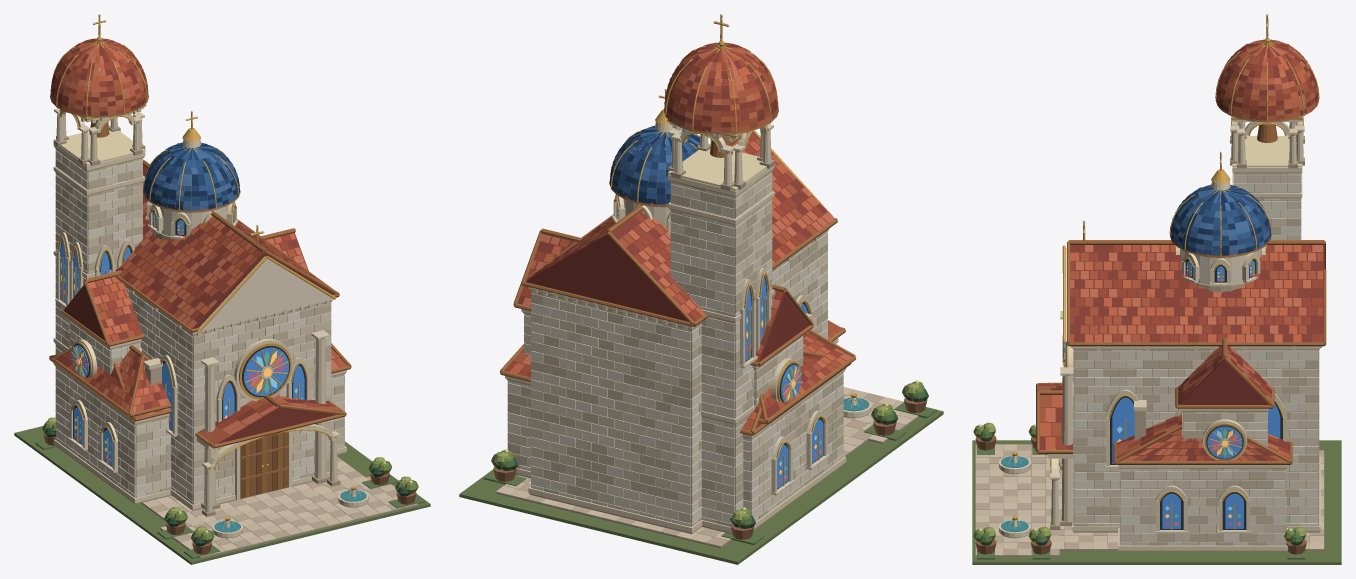
The model's file is chapel-nivel-7.glb.
The picture shows the model from 3 angles, left to right: view 1: azimuth 30°, elevation 25°; view 2: azimuth 150°, elevation 25°; view 3: azimuth 270°, elevation 25°; orthographic projection. The views are drawn at different scales.
Parts seen in each view (by area): view 1: Capela 07 #e6d7ba, Capela 07 #e8dcc5, Capela 07 #853e33, Capela 07 #cec1a8, Capela 07 #ded1b9, Capela 07 #eae1ce, Capela 07 #a76e42, Capela 07 #bf6243, Capela 07 #6c7d4e, Capela 07 #c06b4f, Capela 07 #a8563c, Capela 07 #d5a452 (+21 smaller); view 2: Capela 07 #e8dcc5, Capela 07 #cec1a8, Capela 07 #eae1ce, Capela 07 #ded1b9, Capela 07 #853e33, Capela 07 #e6d7ba, Capela 07 #6c7d4e, Capela 07 #a76e42, Capela 07 #9b4735, Capela 07 #b3a390, Capela 07 #a8563c, Capela 07 #bf6243 (+17 smaller); view 3: Capela 07 #853e33, Capela 07 #e6d7ba, Capela 07 #eae1ce, Capela 07 #ded1b9, Capela 07 #e8dcc5, Capela 07 #cec1a8, Capela 07 #6c7d4e, Capela 07 #9b4735, Capela 07 #a8563c, Capela 07 #bf6243, Capela 07 #a76e42, Capela 07 #c06b4f (+19 smaller).
Boxes of the visible parts, <box> form: Capela 07 #e6d7ba: <box>53,107,368,537</box>; Capela 07 #e8dcc5: <box>55,160,344,501</box>; Capela 07 #853e33: <box>51,39,340,443</box>; Capela 07 #cec1a8: <box>55,158,344,504</box>; Capela 07 #ded1b9: <box>55,108,344,499</box>; Capela 07 #eae1ce: <box>55,150,344,504</box>; Capela 07 #a76e42: <box>49,73,351,480</box>; Capela 07 #bf6243: <box>51,38,340,410</box>; Capela 07 #6c7d4e: <box>14,426,430,564</box>; Capela 07 #c06b4f: <box>51,38,338,435</box>; Capela 07 #a8563c: <box>50,42,347,444</box>; Capela 07 #d5a452: <box>51,16,356,520</box>; Capela 07 #e8dcc5: <box>507,173,843,522</box>; Capela 07 #cec1a8: <box>507,171,843,526</box>; Capela 07 #eae1ce: <box>507,182,843,526</box>; Capela 07 #ded1b9: <box>507,123,843,526</box>; Capela 07 #853e33: <box>509,45,846,428</box>; Capela 07 #e6d7ba: <box>505,117,871,532</box>; Capela 07 #6c7d4e: <box>459,410,943,564</box>; Capela 07 #a76e42: <box>500,84,856,435</box>; Capela 07 #9b4735: <box>504,42,841,409</box>; Capela 07 #b3a390: <box>508,184,755,526</box>; Capela 07 #a8563c: <box>513,42,842,430</box>; Capela 07 #bf6243: <box>509,42,845,419</box>; Capela 07 #853e33: <box>1040,44,1324,460</box>; Capela 07 #e6d7ba: <box>999,121,1320,550</box>; Capela 07 #eae1ce: <box>1073,173,1319,545</box>; Capela 07 #ded1b9: <box>1071,116,1321,545</box>; Capela 07 #e8dcc5: <box>1065,174,1319,545</box>; Capela 07 #cec1a8: <box>1073,183,1319,545</box>; Capela 07 #6c7d4e: <box>972,440,1341,564</box>; Capela 07 #9b4735: <box>1056,39,1322,460</box>; Capela 07 #a8563c: <box>1038,39,1322,460</box>; Capela 07 #bf6243: <box>1040,39,1322,460</box>; Capela 07 #a76e42: <box>1036,78,1326,464</box>; Capela 07 #c06b4f: <box>1038,39,1322,460</box>.
Bounding box in the file's own units: 10.75 × 18.68 × 13.76.
